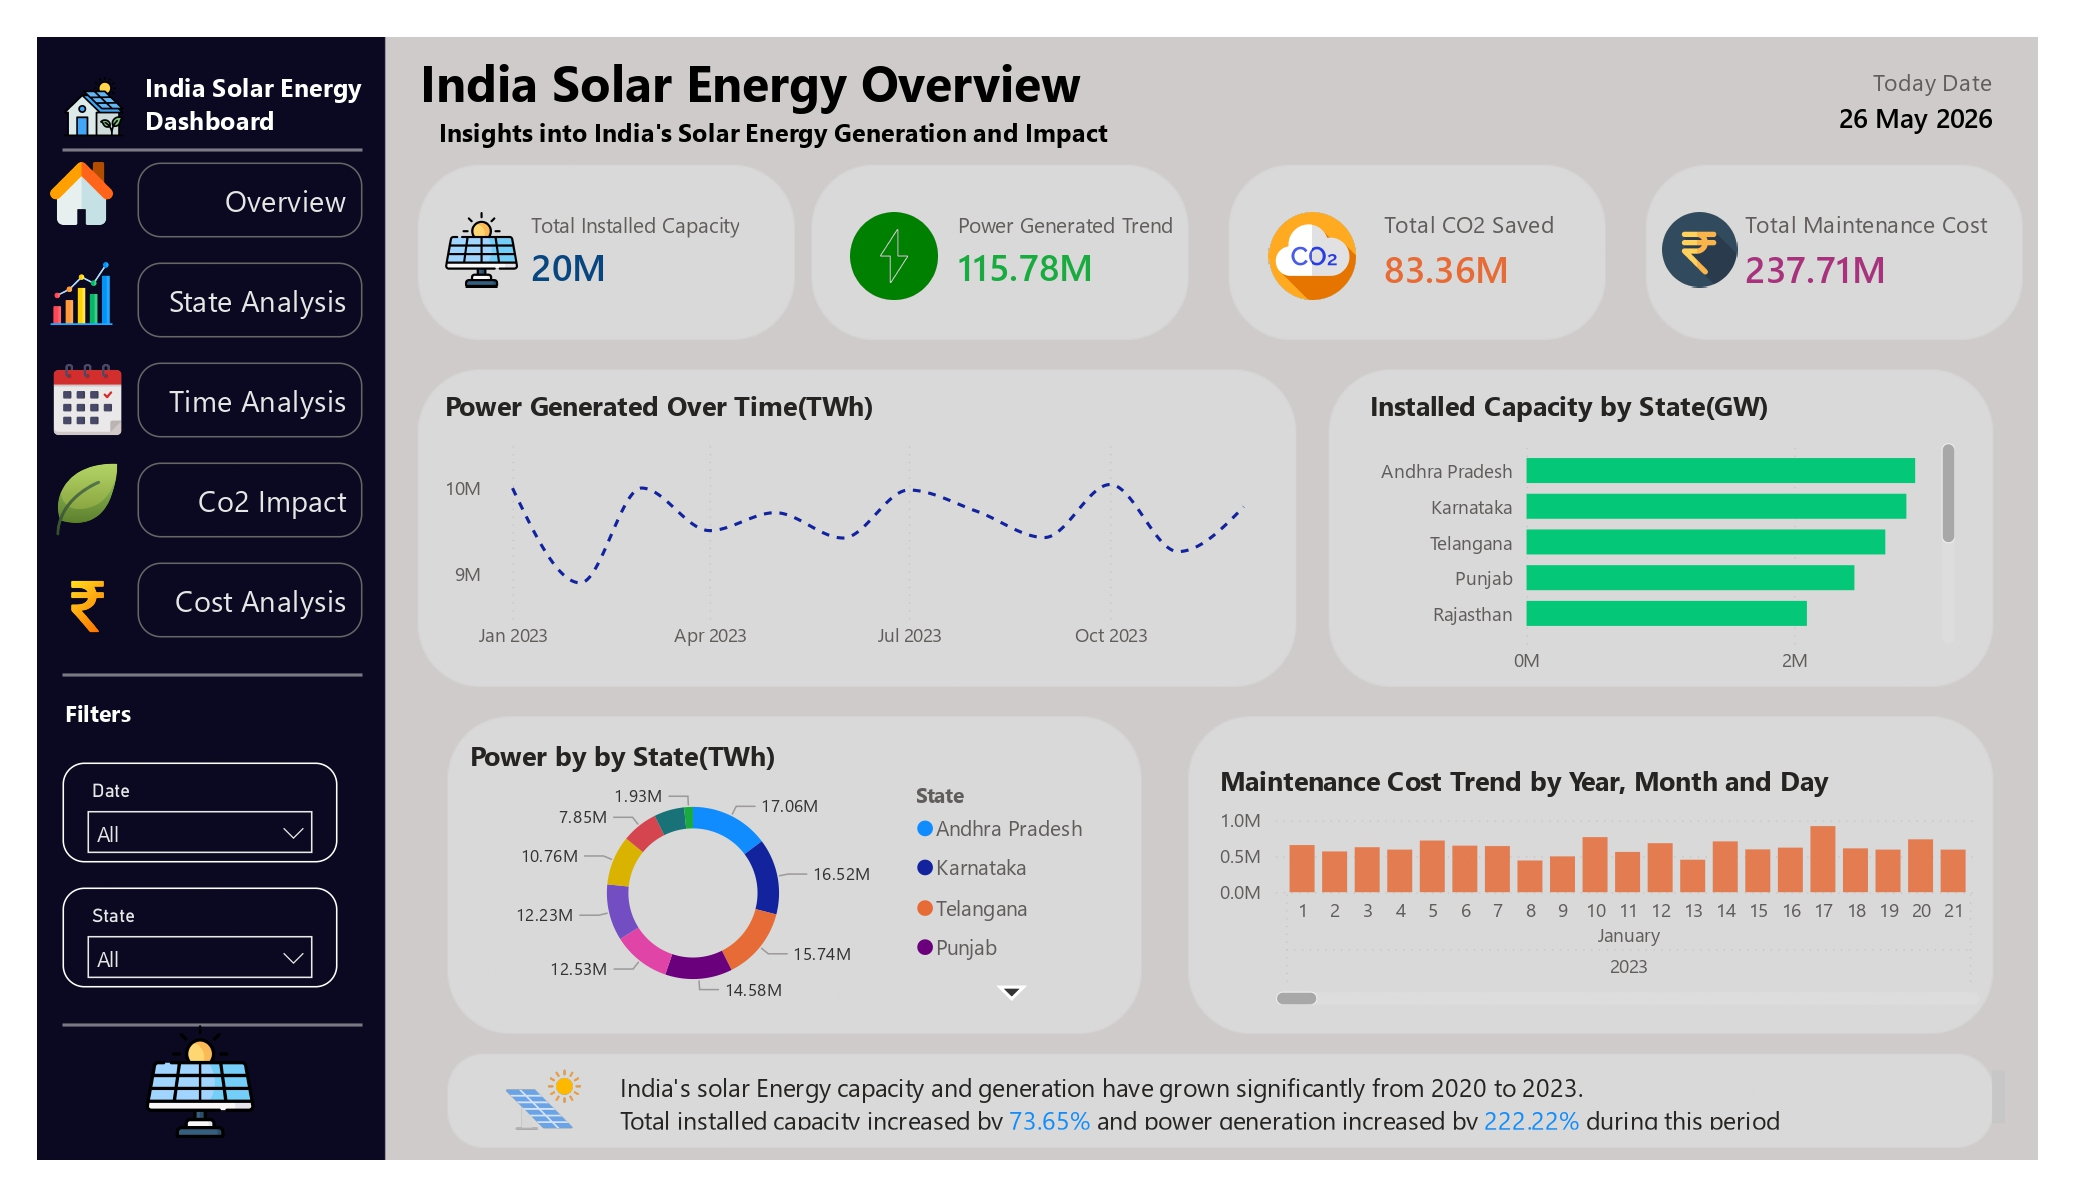

What the dashboard file says about the page in this screenshot:
{"tool":"powerbi","page":{"name":"Page 1","canvas":[1280,720],"ordinal":0},"visuals":[{"type":"cardVisual","title":"Across India","fields":{"Data":["india_solar_energy_dataset.Total Installed Capacity"]},"box":[288,80,192,112],"z":0},{"type":"cardVisual","fields":{"Data":["india_solar_energy_dataset.Total CO2 Saved"]},"box":[832.5,79.6,192,112],"z":1000},{"type":"cardVisual","fields":{"Data":["india_solar_energy_dataset.Total Maintenance Cost"]},"box":[1064,80,216,112],"z":2000},{"type":"textbox","box":[240,0,688,80],"z":3000},{"type":"textbox","box":[64,16,160,64],"z":4000},{"type":"lineChart","title":"Power Generated Over Time(TWh)","fields":{"Y":["india_solar_energy_dataset.Power Generated Trend"],"Category":["india_solar_energy_dataset.Date.Variation.Date Hierarchy.Year","india_solar_energy_dataset.Date.Variation.Date Hierarchy.Month"]},"box":[256,224,544,176],"z":5000},{"type":"clusteredBarChart","title":"Installed Capacity by State(GW)","fields":{"Y":["india_solar_energy_dataset.Installed Capacity by State"],"Category":["india_solar_energy_dataset.State"]},"box":[848,224,384,192],"z":6000},{"type":"donutChart","title":"Power by by State(TWh)","fields":{"Category":["india_solar_energy_dataset.State"],"Y":["india_solar_energy_dataset.Power by State"]},"box":[272,448,416,176],"z":7000},{"type":"columnChart","fields":{"Y":["india_solar_energy_dataset.Maintenance Cost Trend"],"Category":["india_solar_energy_dataset.Date.Variation.Date Hierarchy.Year","india_solar_energy_dataset.Date.Variation.Date Hierarchy.Month","india_solar_energy_dataset.Date.Variation.Date Hierarchy.Day"]},"box":[752,464,496,160],"z":8000},{"type":"textbox","box":[368,656,896,48],"z":9000},{"type":"image","box":[296,656,56,48],"z":10000},{"type":"image","box":[8,24,56,40],"z":11000},{"type":"slicer","fields":{"Values":["india_solar_energy_dataset.Date"]},"box":[16,464,176,64],"z":12000},{"type":"slicer","fields":{"Values":["india_solar_energy_dataset.State"]},"box":[16,544,176,64],"z":13000},{"type":"shape","box":[16,336,192,144],"z":14000},{"type":"shape","box":[16,0,192,144],"z":15000},{"type":"actionButton","box":[64,144,144,48],"z":16000},{"type":"actionButton","box":[64,208,144,48],"z":17000},{"type":"actionButton","box":[64,272,144,48],"z":18000},{"type":"actionButton","box":[64,336,144,48],"z":19000},{"type":"actionButton","box":[64,80,144,48],"z":20000},{"type":"image","box":[256,112,56,48],"z":21000},{"type":"image","box":[520,112,56,56],"z":22000},{"type":"image","box":[776,112,80,56],"z":23000},{"type":"image","box":[1016,112,96,48],"z":24000},{"type":"image","box":[8,72,40,56],"z":25000},{"type":"image","box":[0,144,56,40],"z":26000},{"type":"image","box":[8,208,48,48],"z":27000},{"type":"cardVisual","fields":{"Data":["india_solar_energy_dataset.Power Generated Trend"]},"box":[560,80,208,112],"z":28000},{"type":"image","box":[8,272,48,48],"z":29000},{"type":"image","box":[0,344,64,40],"z":30000},{"type":"shape","box":[16,416,144,32],"z":31000},{"type":"shape","box":[16,560,192,144],"z":32000},{"type":"image","box":[8,632,192,72],"z":33000},{"type":"cardVisual","fields":{"Data":["india_solar_energy_dataset.Today Date"]},"box":[1072,0,208,80],"z":33001}]}

Visuals, with their boxes on the page's 1280x720 design canvas (x1, y1, x2, y2). These are canvas units, not pixel positions in the 2075x1200 screenshot, which may show the page scaled, cropped or inside an application window:
"Across India" cardVisual: 288,80,480,192
cardVisual - india_solar_energy_dataset.Total CO2 Saved: 832,80,1024,192
cardVisual - india_solar_energy_dataset.Total Maintenance Cost: 1064,80,1280,192
textbox: 240,0,928,80
textbox: 64,16,224,80
"Power Generated Over Time(TWh)" lineChart: 256,224,800,400
"Installed Capacity by State(GW)" clusteredBarChart: 848,224,1232,416
"Power by by State(TWh)" donutChart: 272,448,688,624
columnChart - india_solar_energy_dataset.Maintenance Cost Trend x india_solar_energy_dataset.Date.Variation.Date Hierarchy.Year: 752,464,1248,624
textbox: 368,656,1264,704
image: 296,656,352,704
image: 8,24,64,64
slicer - india_solar_energy_dataset.Date: 16,464,192,528
slicer - india_solar_energy_dataset.State: 16,544,192,608
shape: 16,336,208,480
shape: 16,0,208,144
actionButton: 64,144,208,192
actionButton: 64,208,208,256
actionButton: 64,272,208,320
actionButton: 64,336,208,384
actionButton: 64,80,208,128
image: 256,112,312,160
image: 520,112,576,168
image: 776,112,856,168
image: 1016,112,1112,160
image: 8,72,48,128
image: 0,144,56,184
image: 8,208,56,256
cardVisual - india_solar_energy_dataset.Power Generated Trend: 560,80,768,192
image: 8,272,56,320
image: 0,344,64,384
shape: 16,416,160,448
shape: 16,560,208,704
image: 8,632,200,704
cardVisual - india_solar_energy_dataset.Today Date: 1072,0,1280,80
